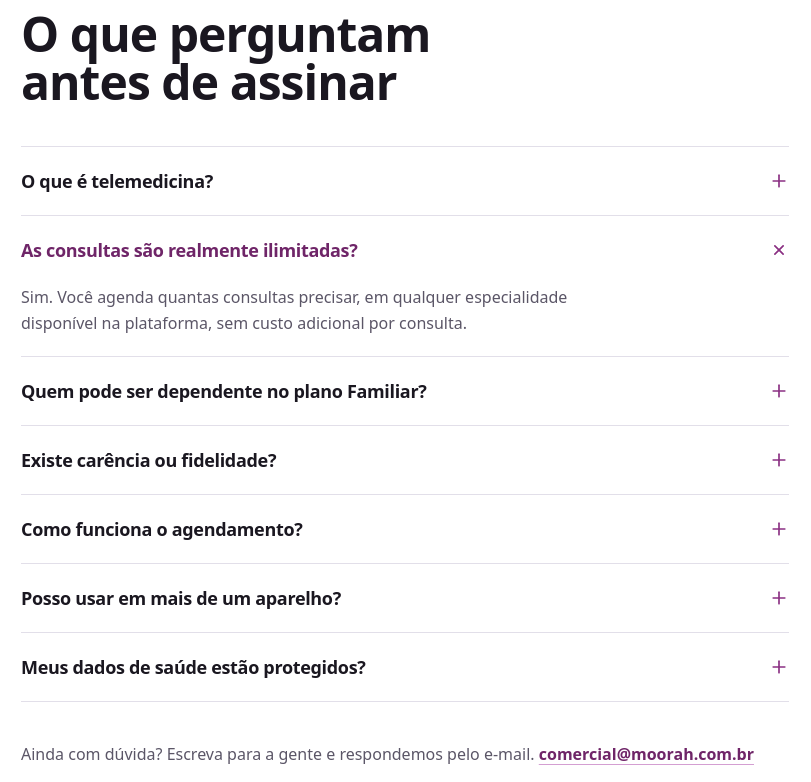
Duvidas › clicar no primeiro gatilho abre a resposta e fecha o segundo
This screenshot has width=811, height=782.
Click the button "O que é telemedicina?" at (117, 181), box 21,147 -> 789,215
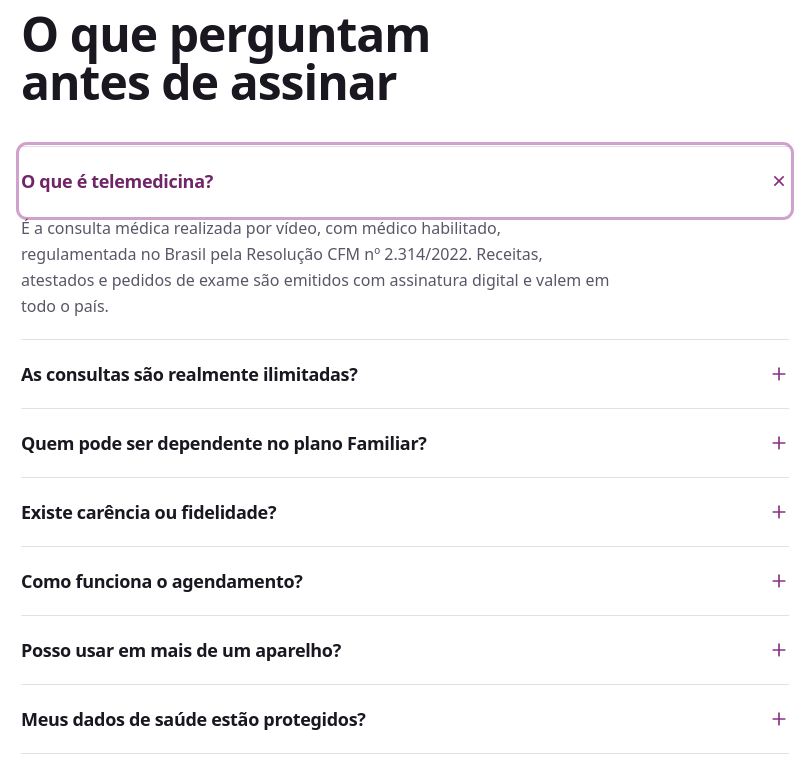
Result: the button "O que é telemedicina?" is expanded at 21,147 -> 789,215
Result: the button "As consultas são realmente ilimitadas?" is collapsed at 21,340 -> 789,408
Result: the text "É a consulta médica realizada por vídeo, com médico habilitado, regulamentada no Brasil pela Resolução CFM nº 2.314/2022" is shown at 21,217 -> 609,317
